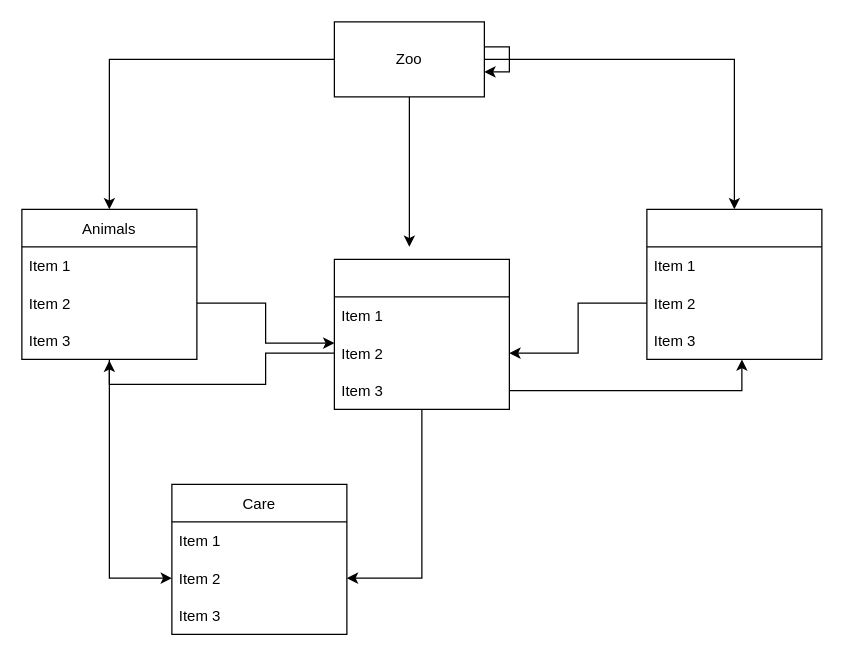
The diagram is 844 pixels wide and 656 high, and some of its shapes have lost their labels. Here are the shapes that lost their labels. From the top down, the box of each, then its label:
(646, 208, 822, 359): Properity
(333, 258, 509, 409): Animal Type
